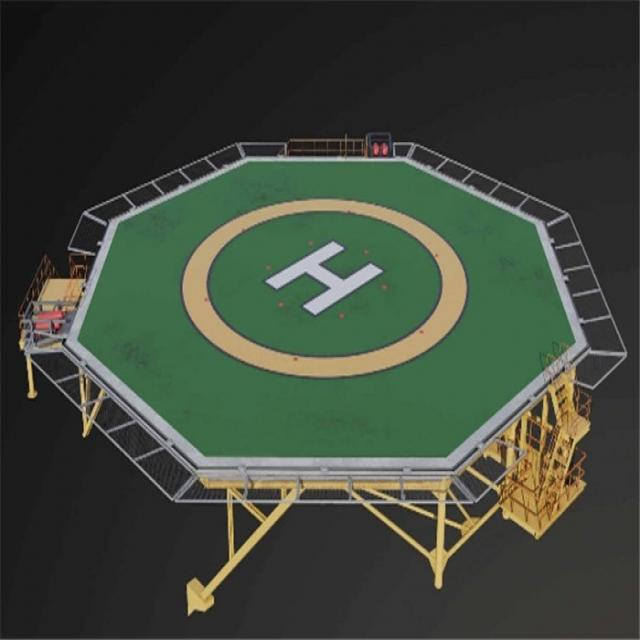helipad: (175, 190, 470, 382)
